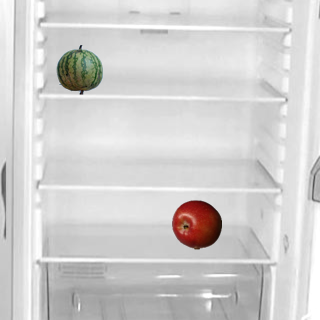Apple Braeburn: (171, 199, 221, 249)
Watermelon: (54, 44, 104, 94)
